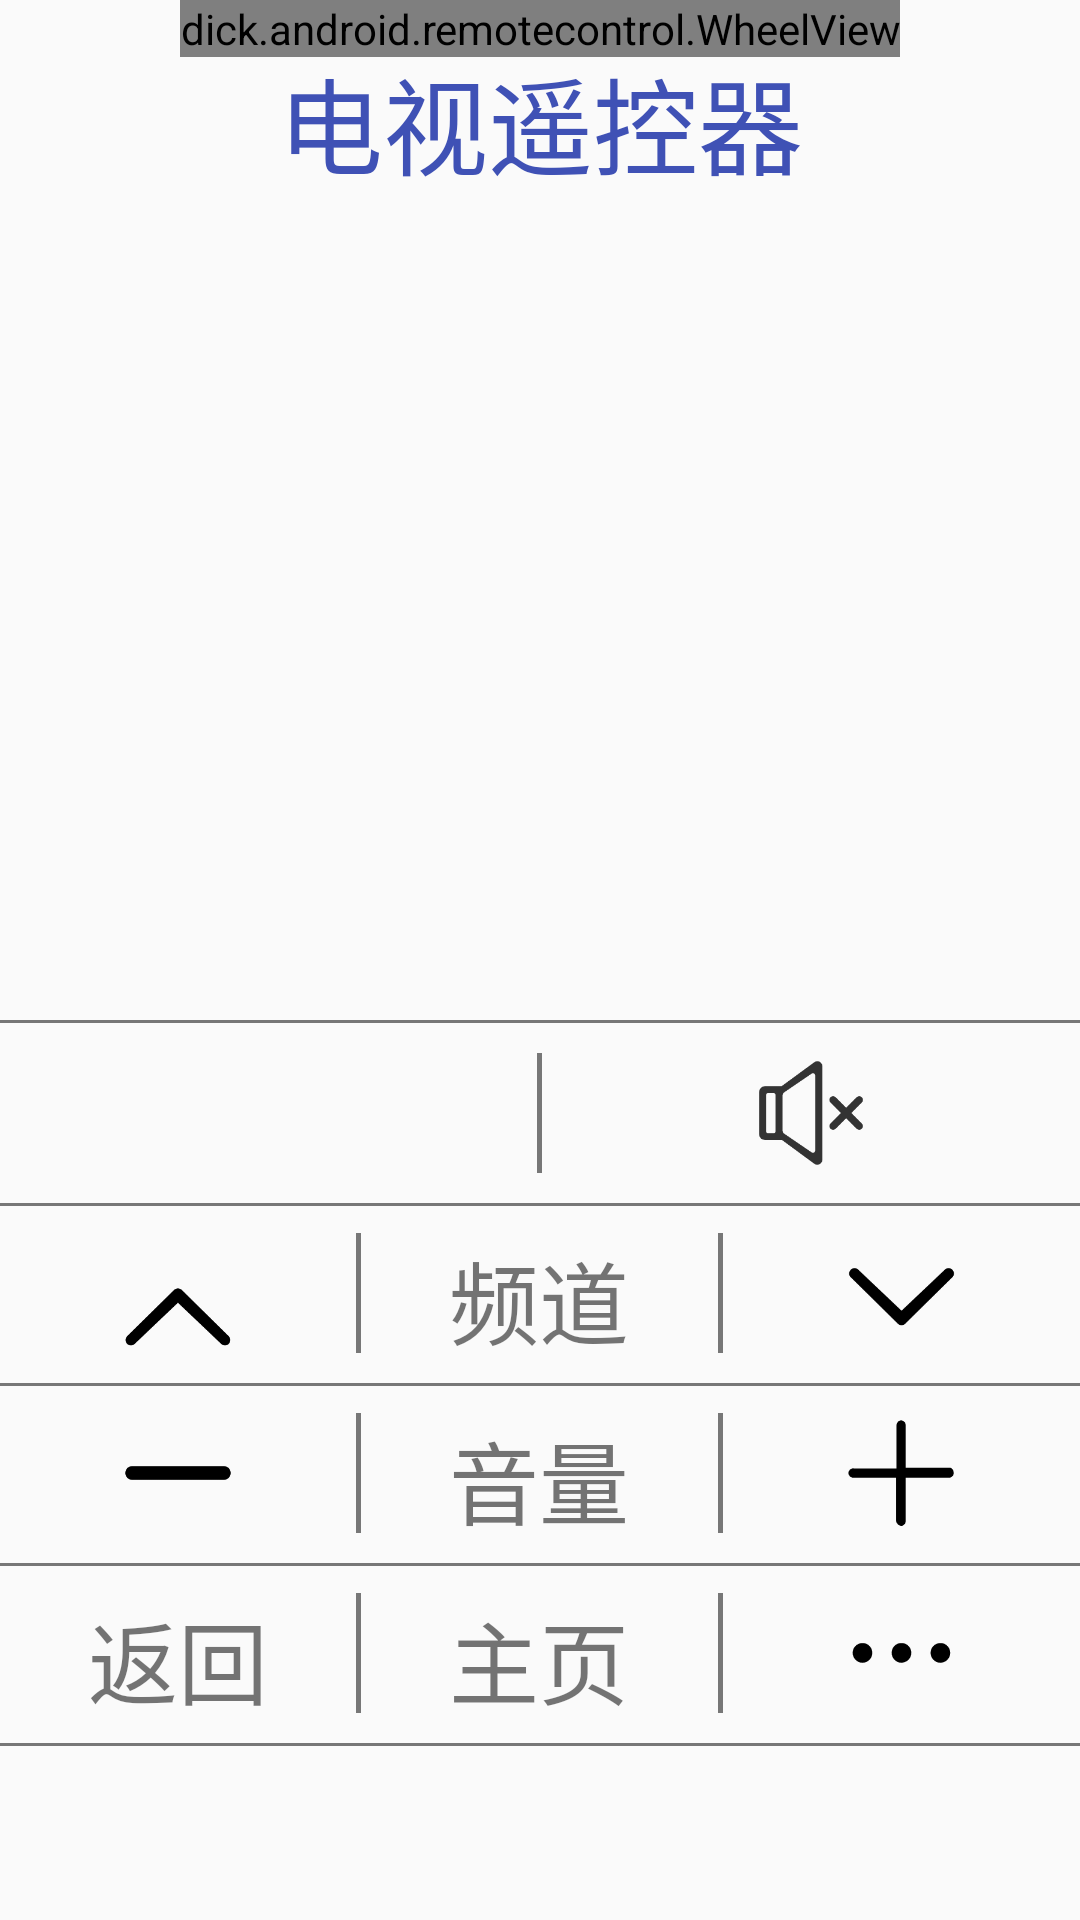

Icon bounding boxes for this 1080px×1920px phone screenshot, format (x1, y1, x2, y2):
down: (849, 1268, 954, 1326)
increase: (848, 1420, 954, 1526)
more: (852, 1643, 951, 1663)
mute: (759, 1061, 863, 1165)
